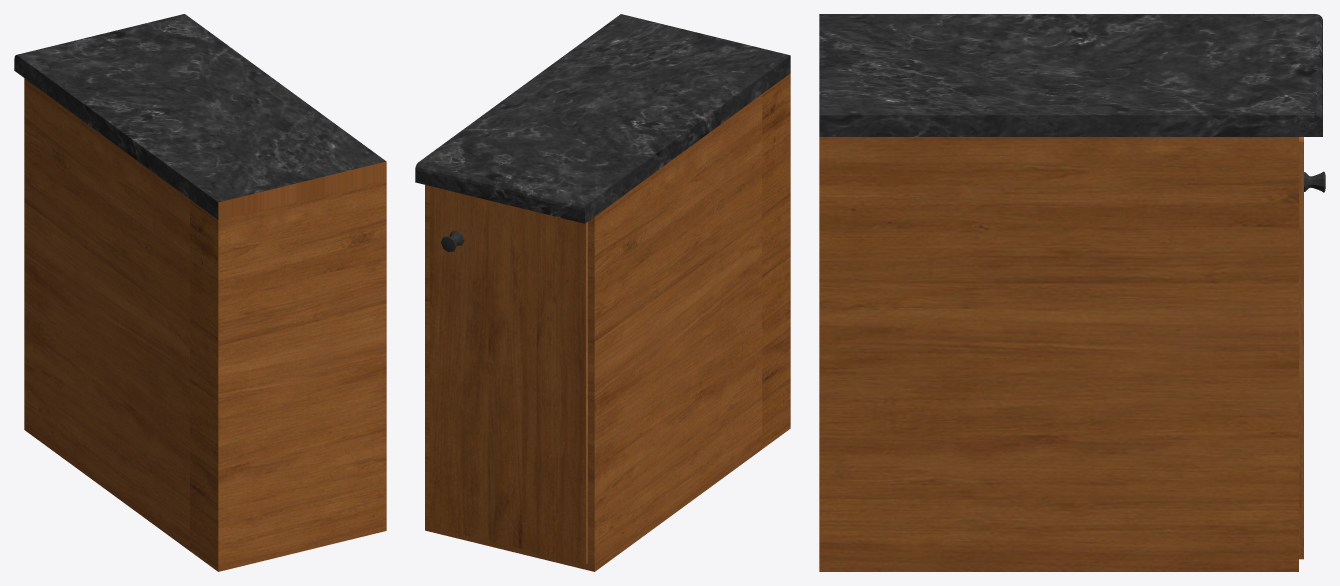
Rendered from CounterSingleSegment.fbx.
The picture shows the model from 3 angles, left to right: view 1: azimuth 30°, elevation 25°; view 2: azimuth 150°, elevation 25°; view 3: azimuth 270°, elevation 25°; orthographic projection. The views are drawn at different scales.
Visible parts, largest first — view 1: Cube; view 2: Cube; view 3: Cube.
Part boxes in pixels (x1,y1,x2,y2): Cube: [14, 14, 386, 571]; Cube: [415, 14, 790, 571]; Cube: [819, 14, 1325, 571].
Bounding box in the file's own units: 100 × 210 × 211.
